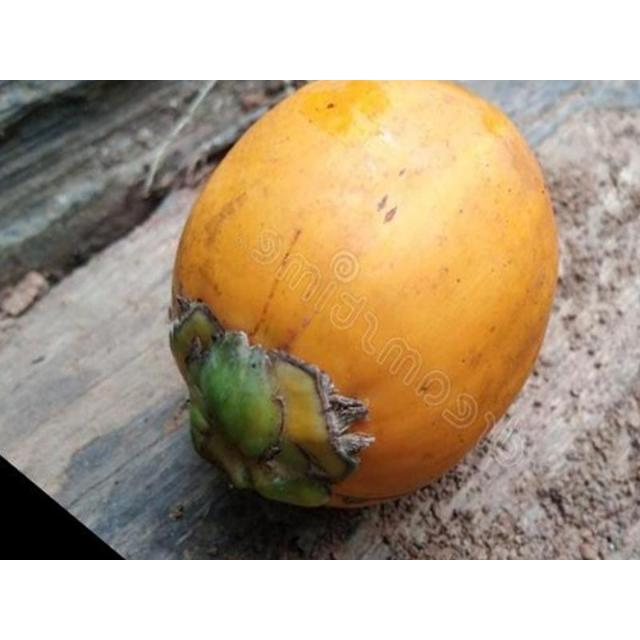good: (168, 80, 559, 511)
